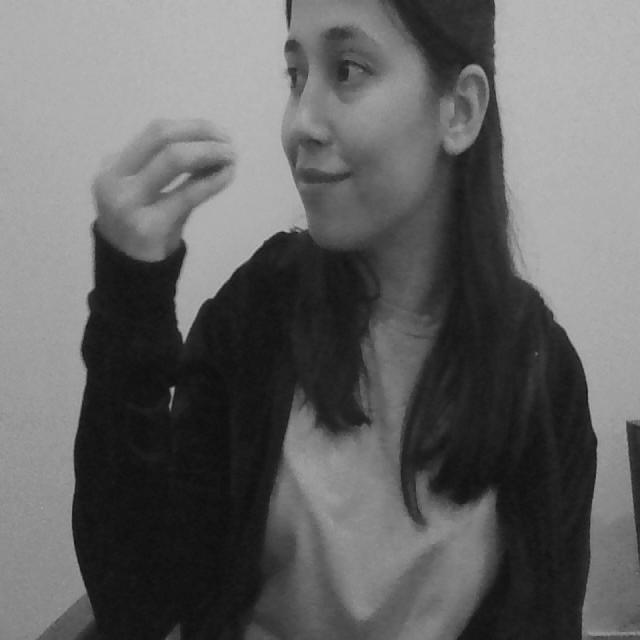Yemek: (91, 121, 356, 236)
